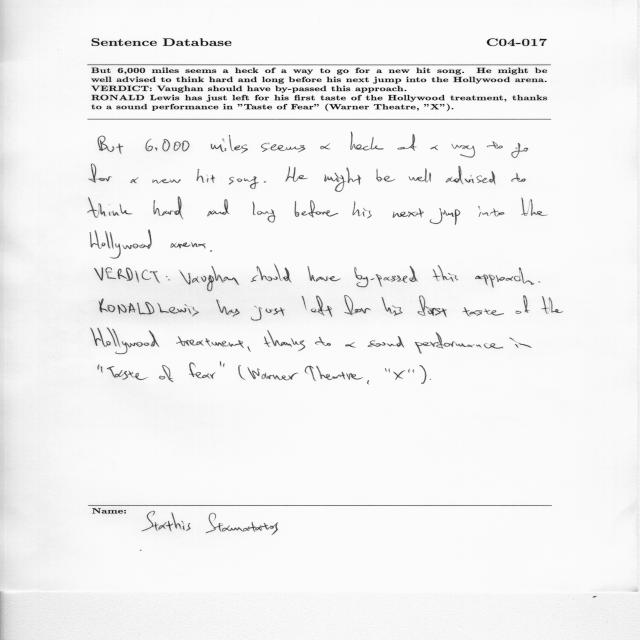word: (415, 332, 503, 354), (91, 328, 160, 354), (90, 230, 152, 258), (179, 266, 239, 291), (354, 266, 418, 287), (475, 267, 534, 288), (95, 267, 160, 283), (446, 166, 496, 185), (88, 197, 133, 218), (325, 167, 362, 192), (100, 299, 155, 315), (305, 366, 363, 381), (264, 330, 305, 351), (295, 200, 339, 218), (251, 264, 292, 283), (176, 337, 244, 348), (211, 135, 248, 153), (248, 367, 299, 380), (154, 197, 184, 219), (418, 296, 447, 318), (302, 296, 332, 317), (350, 132, 384, 150), (107, 366, 148, 380), (157, 303, 199, 316), (146, 139, 190, 151), (344, 296, 371, 315), (430, 208, 460, 225), (307, 266, 341, 281), (251, 306, 285, 321), (252, 202, 276, 223), (98, 135, 124, 154), (521, 198, 548, 216), (189, 362, 215, 379), (89, 164, 112, 183), (216, 299, 240, 317), (368, 336, 404, 348), (433, 265, 458, 282), (382, 297, 403, 316), (261, 143, 305, 152), (207, 199, 229, 217), (542, 296, 564, 314), (229, 177, 259, 190), (462, 308, 504, 317), (286, 166, 308, 182), (397, 134, 417, 151), (352, 202, 372, 219), (452, 144, 476, 157), (393, 208, 424, 218), (409, 169, 431, 183), (478, 206, 505, 217), (516, 295, 530, 314), (511, 143, 528, 158), (509, 337, 532, 348), (197, 169, 215, 183), (376, 169, 395, 182), (171, 242, 206, 249), (159, 365, 173, 382), (393, 369, 410, 380), (315, 337, 331, 346), (511, 173, 526, 182), (420, 365, 427, 384), (487, 141, 503, 149), (152, 179, 181, 183), (239, 365, 246, 380), (320, 144, 331, 150), (345, 343, 356, 348), (131, 177, 139, 183), (98, 364, 103, 373), (431, 145, 439, 150), (220, 362, 225, 367), (247, 346, 251, 352), (166, 276, 170, 281), (385, 369, 390, 373), (367, 380, 370, 384), (538, 281, 541, 283), (264, 181, 266, 183), (210, 250, 212, 252), (413, 369, 414, 373), (430, 379, 431, 380)
